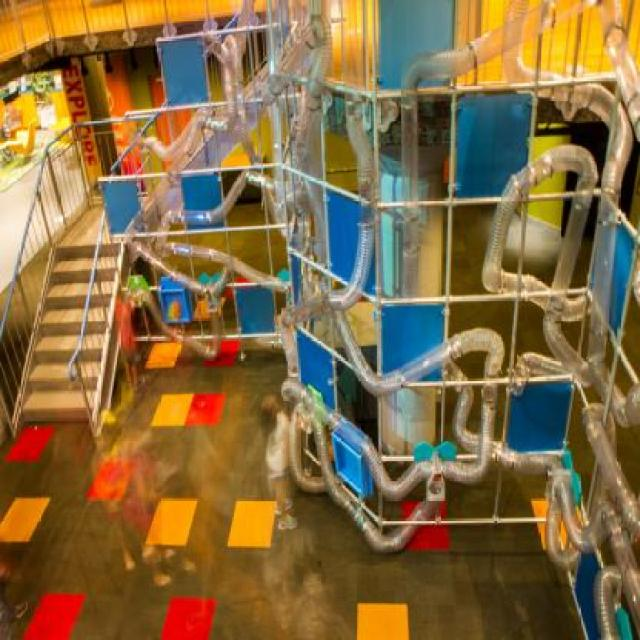stair: (20, 238, 128, 436)
